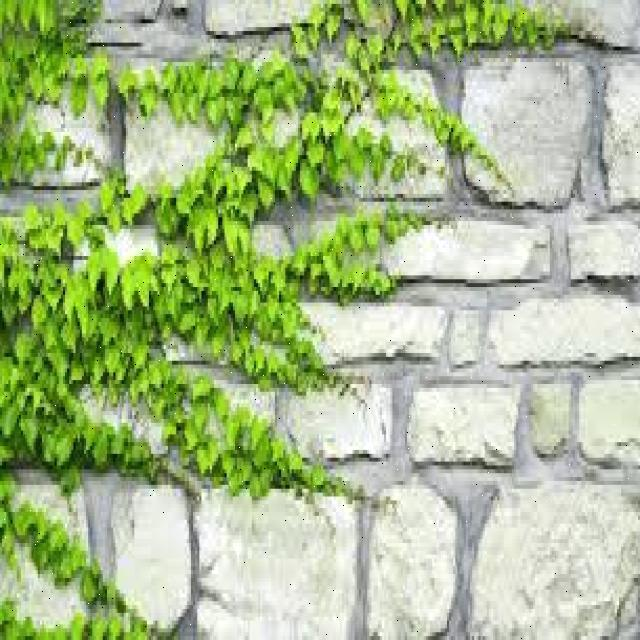crack: (421, 33, 640, 307), (13, 217, 640, 294), (115, 18, 640, 48), (83, 0, 205, 57), (108, 49, 267, 87), (201, 0, 336, 41)
dampness: (80, 4, 192, 214)
vegetation: (263, 6, 520, 218), (133, 58, 351, 245), (2, 203, 151, 384), (3, 478, 159, 635), (3, 330, 150, 478), (4, 2, 114, 197), (387, 1, 574, 59)
